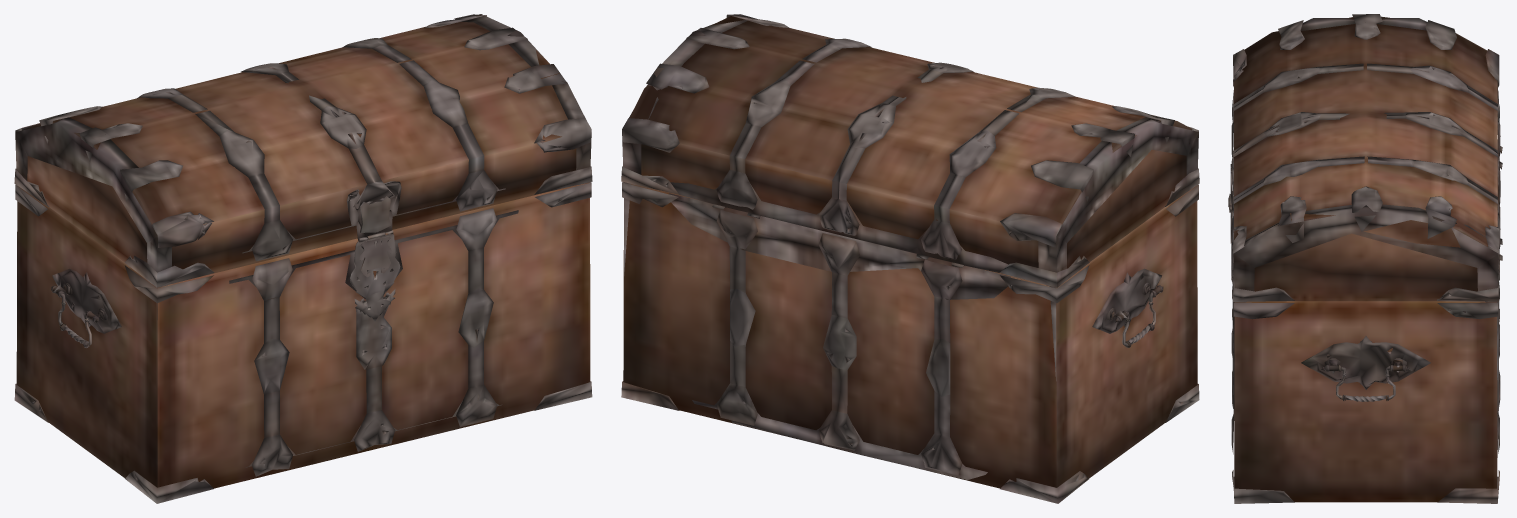
Rendered from treasure_chest.glb.
The picture shows the model from 3 angles, left to right: view 1: azimuth 30°, elevation 25°; view 2: azimuth 150°, elevation 25°; view 3: azimuth 270°, elevation 25°; orthographic projection. The views are drawn at different scales.
Visible parts, largest first — view 1: treasure_chest_bottom, treasure_chest_lid, treasure_chest_lock, treasure_chest_handle_left; view 2: treasure_chest_bottom, treasure_chest_lid, treasure_chest_handle_left; view 3: treasure_chest_lid, treasure_chest_bottom, treasure_chest_handle_right.
Boxes of the visible parts, <box> form: treasure_chest_bottom: <box>14,182,592,503</box>; treasure_chest_lid: <box>14,14,592,287</box>; treasure_chest_lock: <box>350,232,400,321</box>; treasure_chest_handle_left: <box>51,285,99,347</box>; treasure_chest_bottom: <box>621,182,1199,503</box>; treasure_chest_lid: <box>621,14,1199,287</box>; treasure_chest_handle_left: <box>1115,285,1163,347</box>; treasure_chest_lid: <box>1228,14,1502,301</box>; treasure_chest_bottom: <box>1231,121,1500,503</box>; treasure_chest_handle_right: <box>1322,365,1409,401</box>.
Size of the model in its own units: 0.9551 by 0.6152 by 0.5222.
Materials: 1 (1 with a texture image).
